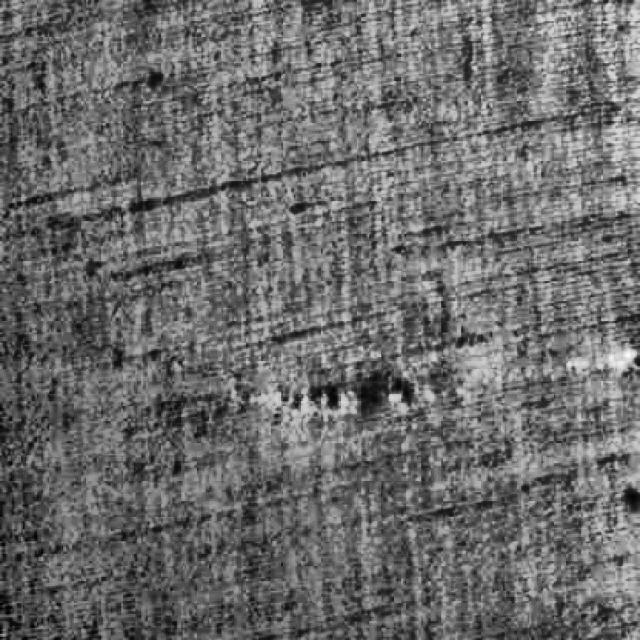thread_error: (160, 330, 640, 448)
